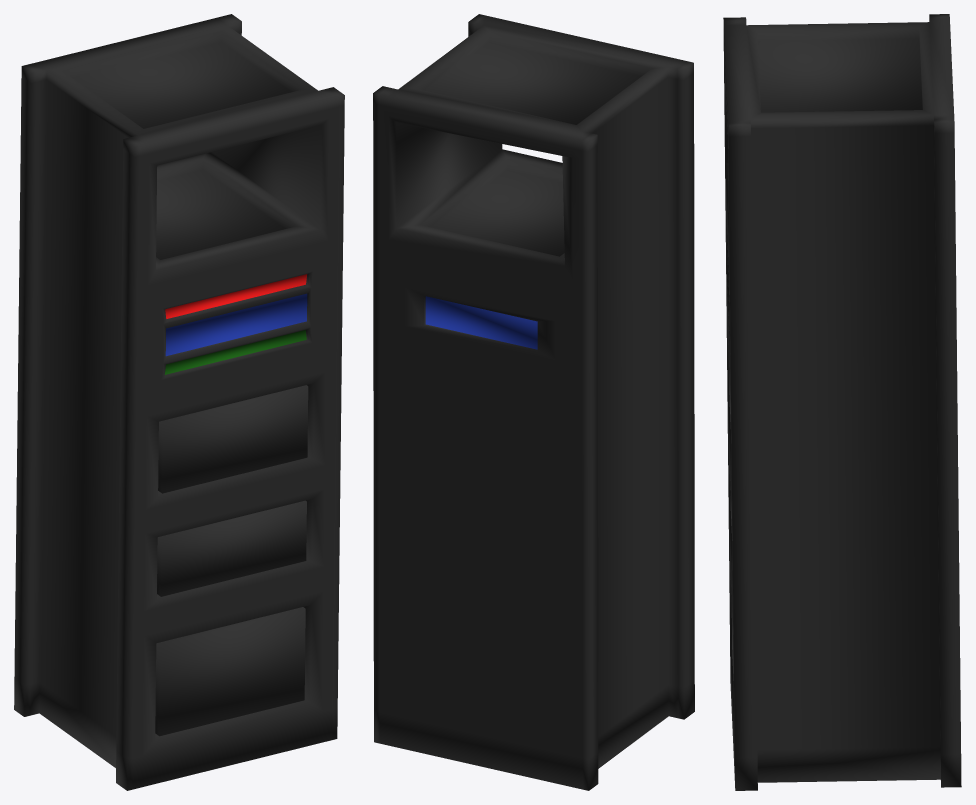
Rendered from GAMEJAMHERO - Prop(Server).fbx.
3 renders of one model, left to right at view 1: azimuth 30°, elevation 25°; view 2: azimuth 150°, elevation 25°; view 3: azimuth 270°, elevation 25°, orthographic. The views are drawn at different scales.
Parts seen in each view (by area): view 1: Cube.021; view 2: Cube.021; view 3: Cube.021.
Part boxes in pixels (x1,y1,x2,y2): Cube.021: [14, 14, 344, 790]; Cube.021: [373, 14, 694, 790]; Cube.021: [723, 14, 961, 790].
Size of the model in its own units: 155 by 435 by 140.
Materials: 1 (1 with a texture image).
